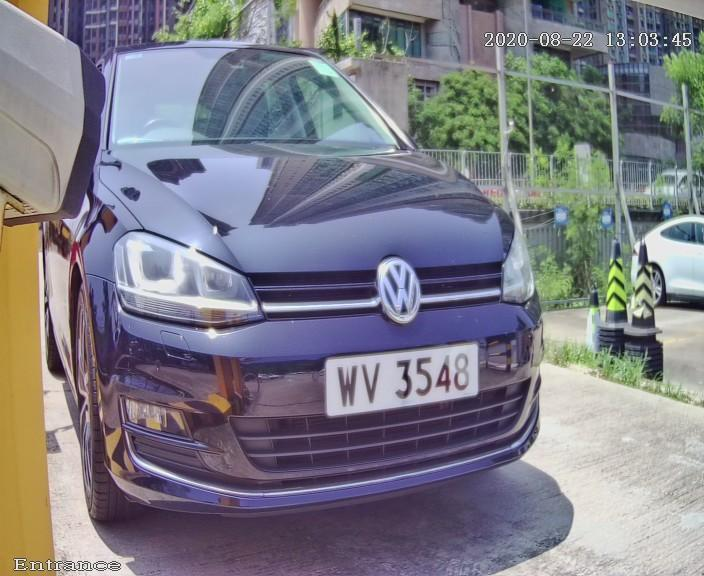Car: (26, 8, 591, 556)
License Plate: (274, 303, 529, 440)
